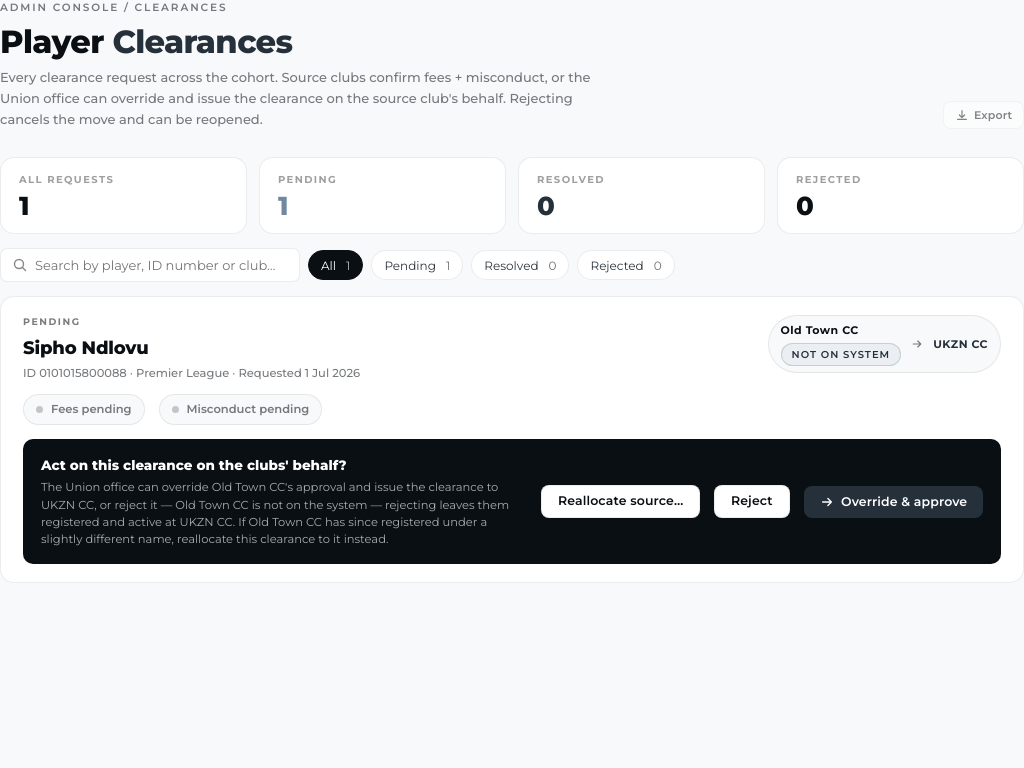
a clearance whose previous club is not on the system › offers reallocation, for a club that has since registered
Step 1. Click the button "Reallocate source…" → (620, 502), box [541,486,700,518]
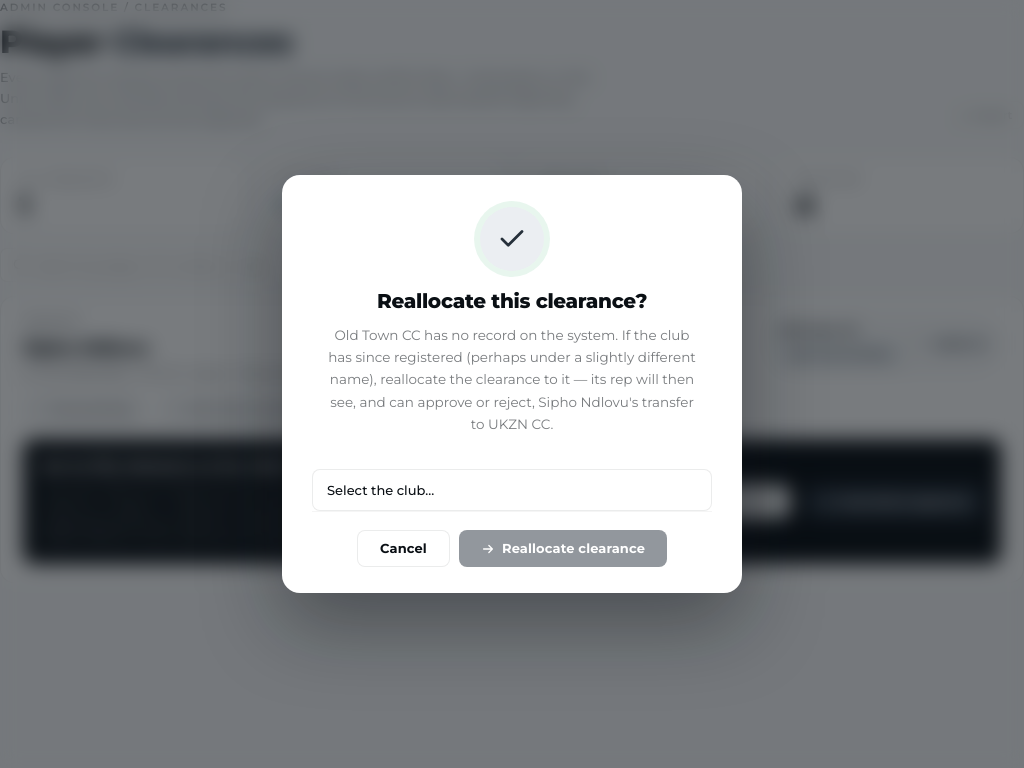
expect the text "has no record on the system" is shown: met, box [328,327,696,432]
